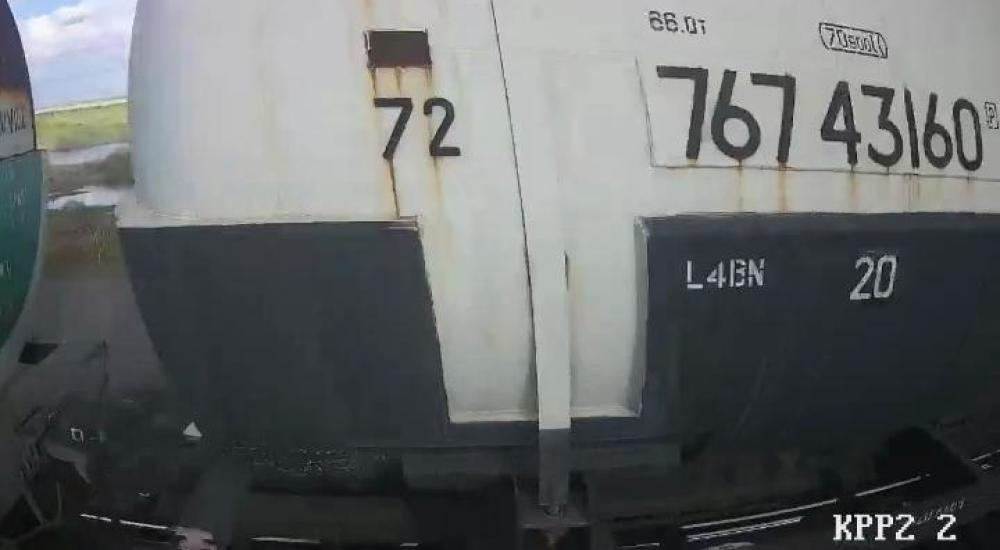Wagon-number: (653, 64, 988, 176)
